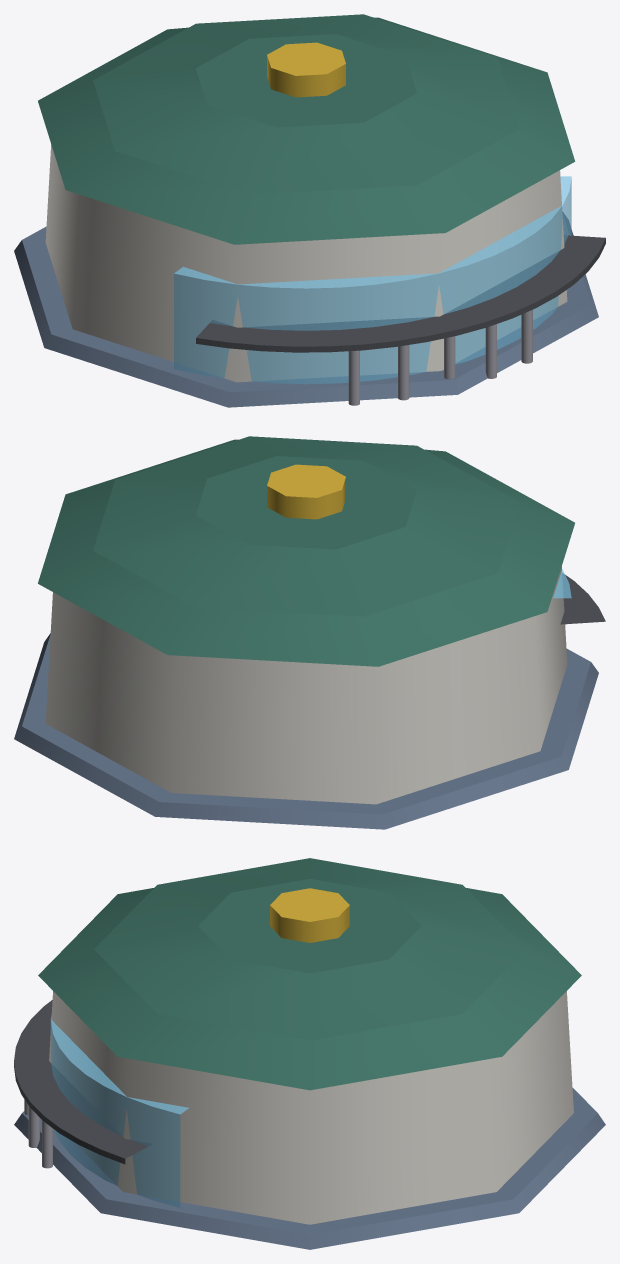
File: seminar-hall.glb
3 views of the same model, one above another, from view 1: azimuth 30°, elevation 25°; view 2: azimuth 150°, elevation 25°; view 3: azimuth 270°, elevation 25° (orthographic). The views are drawn at different scales.
Parts seen in each view (by area): view 1: Central_Seminar_Hall; view 2: Central_Seminar_Hall; view 3: Central_Seminar_Hall.
Boxes of the visible parts, box(x1,y1,x2,y2) form: Central_Seminar_Hall: box(14, 14, 605, 407); Central_Seminar_Hall: box(14, 436, 605, 829); Central_Seminar_Hall: box(14, 858, 605, 1249).
Bounding box in the file's own units: 37 × 15.15 × 37.
